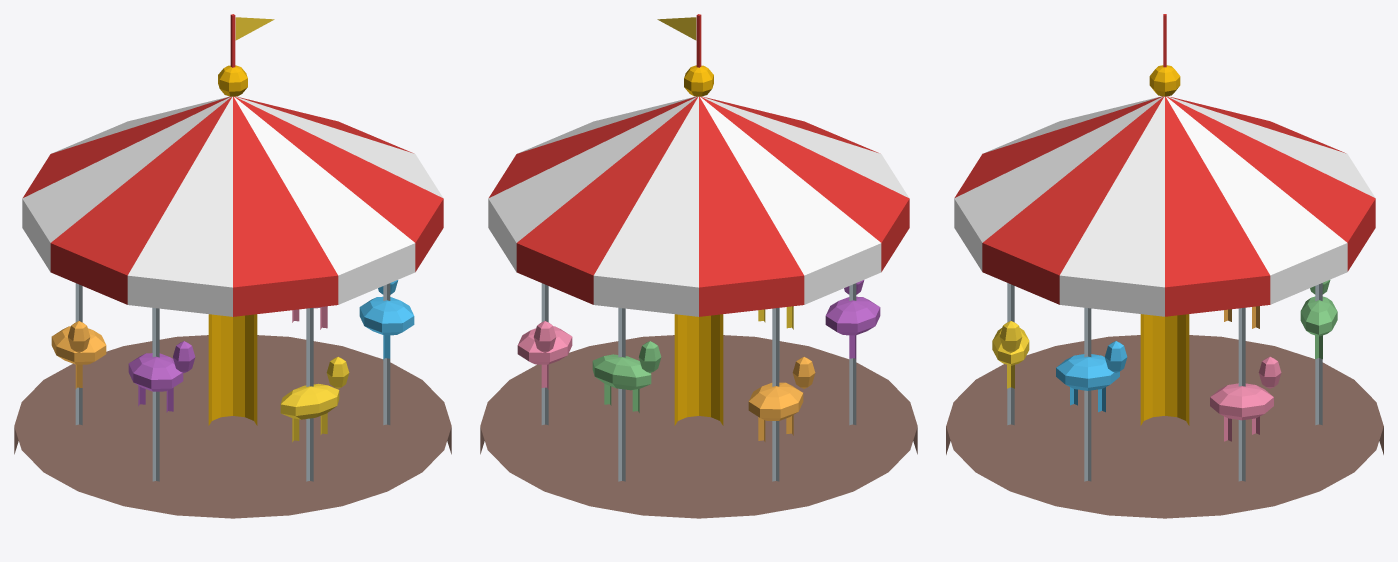
File: tivoli.glb
The picture shows the model from 3 angles, left to right: view 1: azimuth 30°, elevation 25°; view 2: azimuth 150°, elevation 25°; view 3: azimuth 270°, elevation 25°; orthographic projection.
Parts seen in each view (by area): view 1: tivoli; view 2: tivoli; view 3: tivoli.
Part boxes in pixels (x1,y1,x2,y2): tivoli: [14, 14, 451, 518]; tivoli: [480, 14, 917, 518]; tivoli: [946, 14, 1383, 518].
Bounding box in the file's own units: 2.7 × 3 × 2.7.
